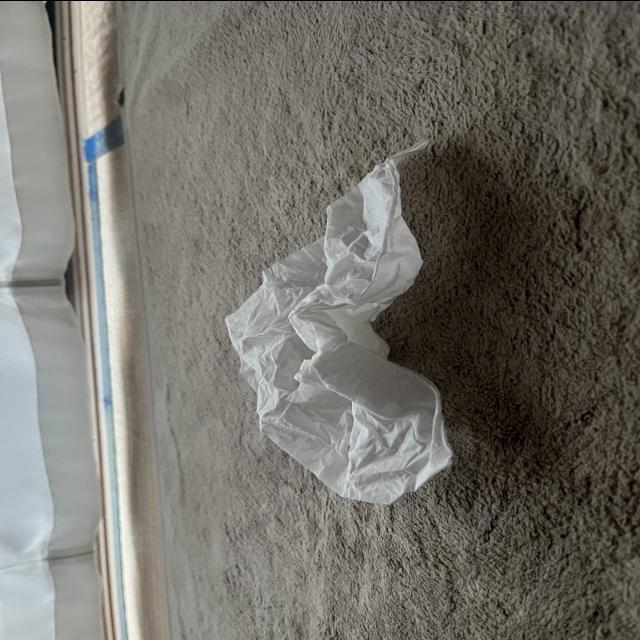Paper: (226, 138, 460, 498)
